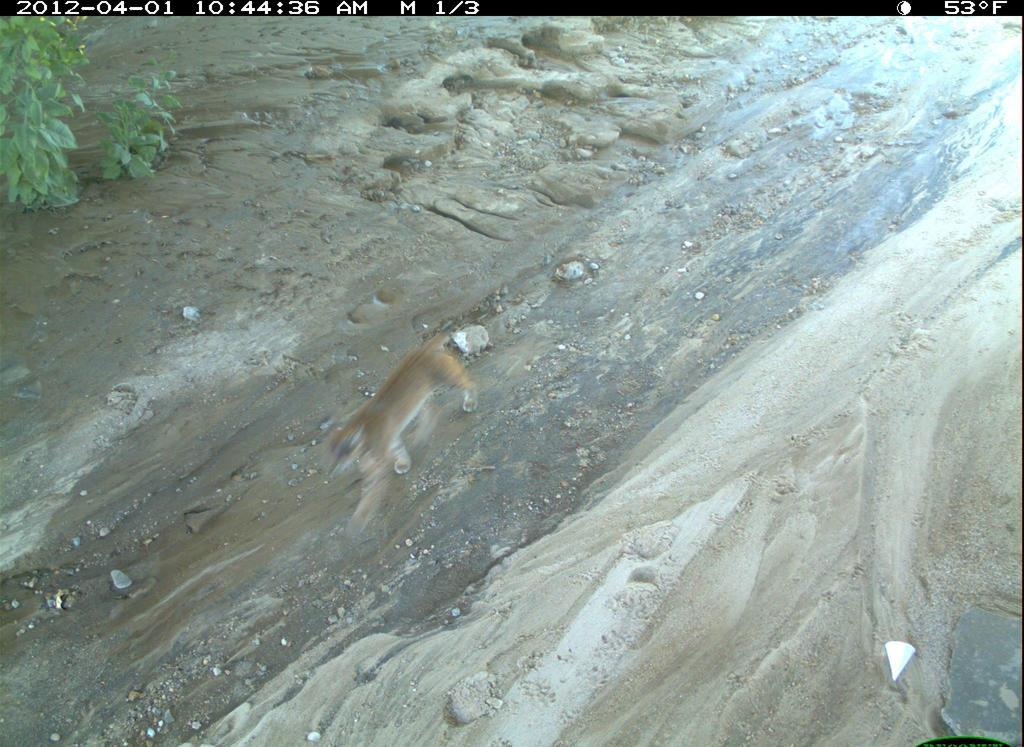bobcat: (640, 657, 975, 747)
